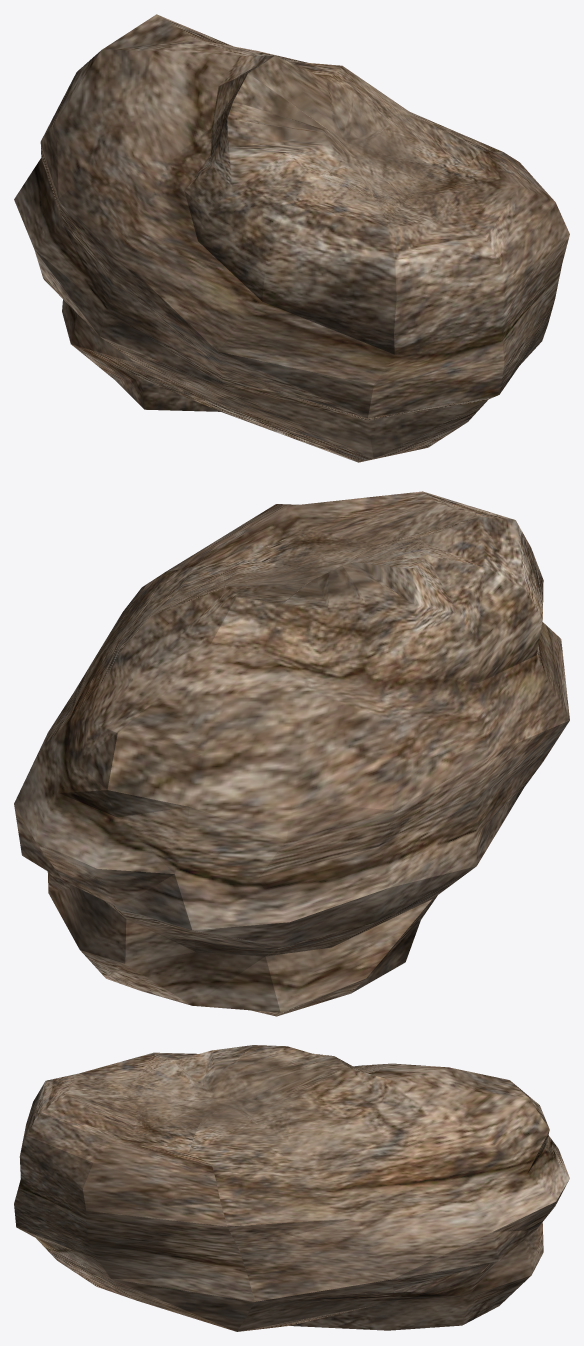
The model's file is RockSmallThin_LOD1.obj.
3 views of the same model, one above another, from view 1: azimuth 30°, elevation 25°; view 2: azimuth 150°, elevation 25°; view 3: azimuth 270°, elevation 25° (orthographic). The views are drawn at different scales.
Visible parts, largest first — view 1: RockSmallThin_LOD1; view 2: RockSmallThin_LOD1; view 3: RockSmallThin_LOD1.
Boxes of the visible parts, x1,y1,x2,y2 form: RockSmallThin_LOD1: (14, 14, 569, 462); RockSmallThin_LOD1: (14, 491, 569, 1016); RockSmallThin_LOD1: (14, 1045, 569, 1331).
Size of the model in its own units: 1.2 by 0.9596 by 1.9.
